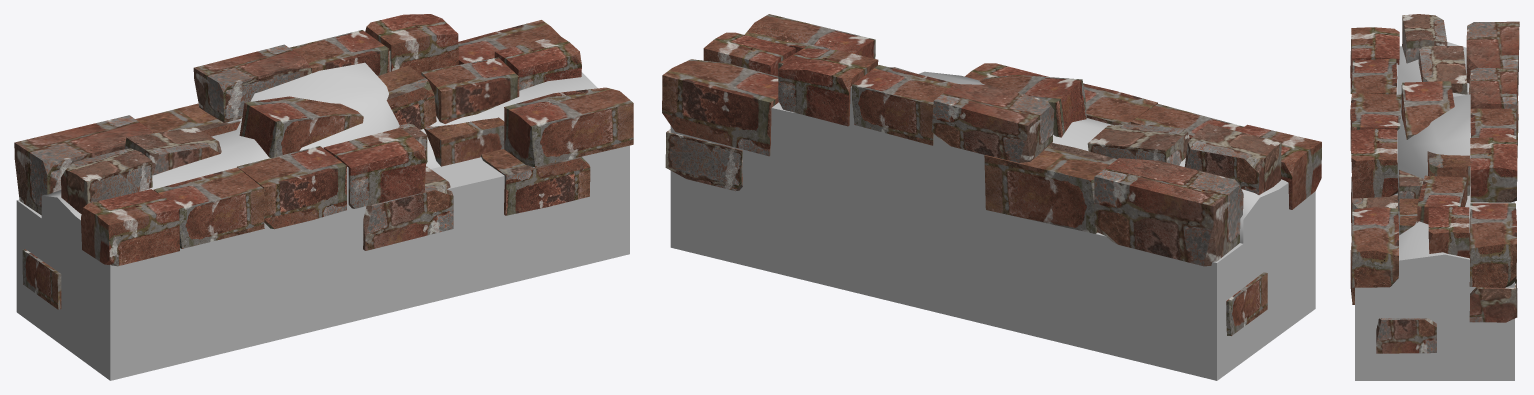
Rendered from SM_Wall_Thick_Ruined_01.fbx.
3 renders of one model, left to right at view 1: azimuth 30°, elevation 25°; view 2: azimuth 150°, elevation 25°; view 3: azimuth 270°, elevation 25°, orthographic. The views are drawn at different scales.
Parts seen in each view (by area): view 1: SM_Wall_Thick_Ruined_01_LOD0; view 2: SM_Wall_Thick_Ruined_01_LOD0; view 3: SM_Wall_Thick_Ruined_01_LOD0.
Boxes of the visible parts, box(x1,y1,x2,y2) form: SM_Wall_Thick_Ruined_01_LOD0: box(14, 14, 633, 380); SM_Wall_Thick_Ruined_01_LOD0: box(662, 14, 1321, 380); SM_Wall_Thick_Ruined_01_LOD0: box(1350, 14, 1519, 380).
Size of what is drawn, in the model's own units: 409 by 149 by 132.
